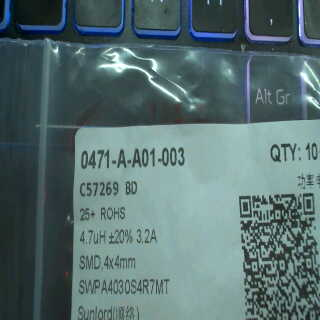4.7uH: (76, 224, 108, 247)
